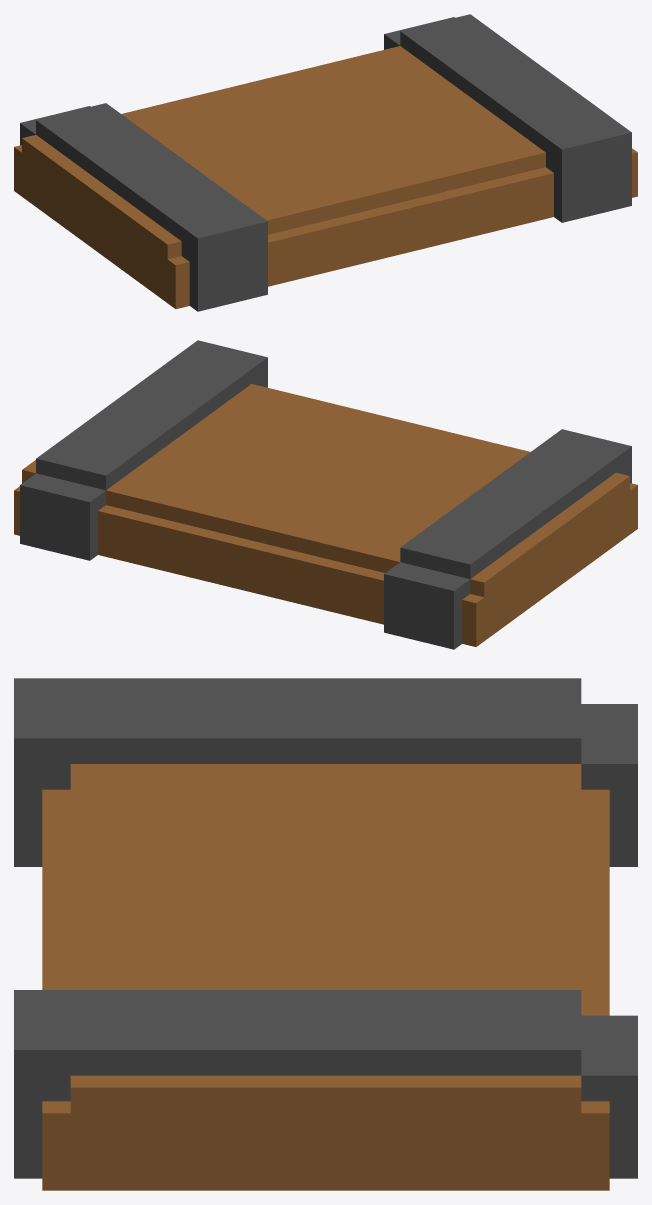
The model's file is Chest_top-2.obj.
3 renders of one model, top to bottom at view 1: azimuth 30°, elevation 25°; view 2: azimuth 150°, elevation 25°; view 3: azimuth 270°, elevation 25°, orthographic. The views are drawn at different scales.
Size of the model in its own units: 3.3 by 0.5 by 2.2.
1 material, 1 textured.
